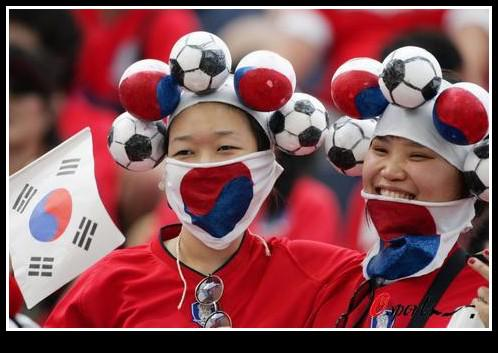NONE: (364, 137, 456, 229)
OK: (166, 124, 264, 227)
